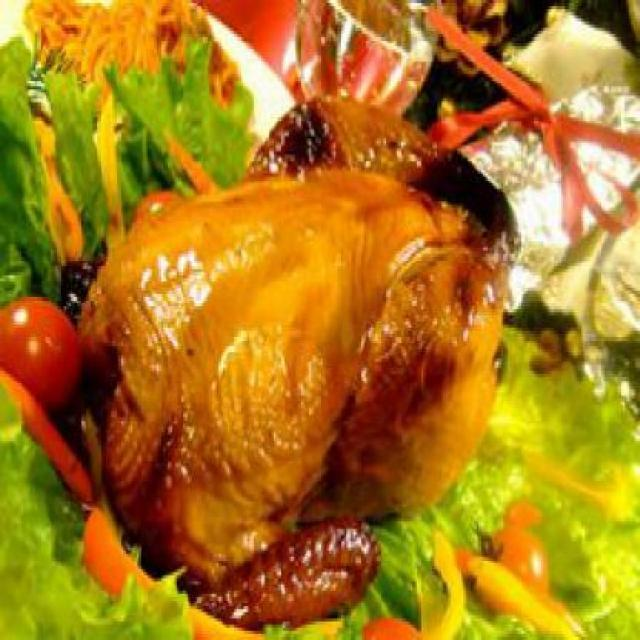Chicken roast: (108, 111, 508, 600)
Tomato: (5, 290, 90, 408)
